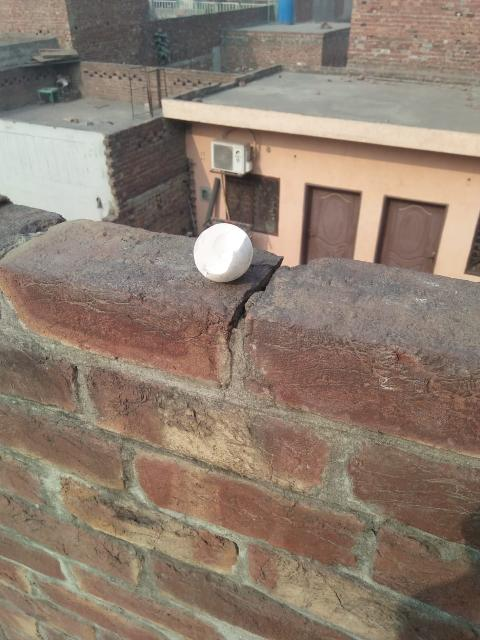Roto: (192, 221, 256, 283)
